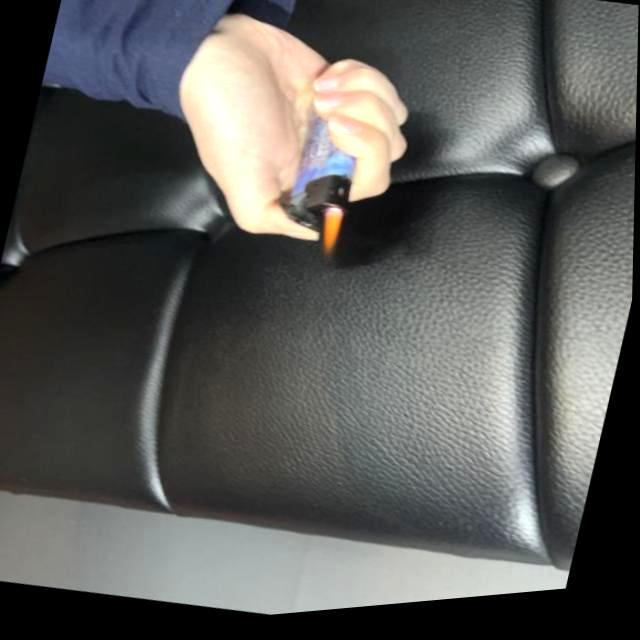fire: (314, 210, 346, 266)
